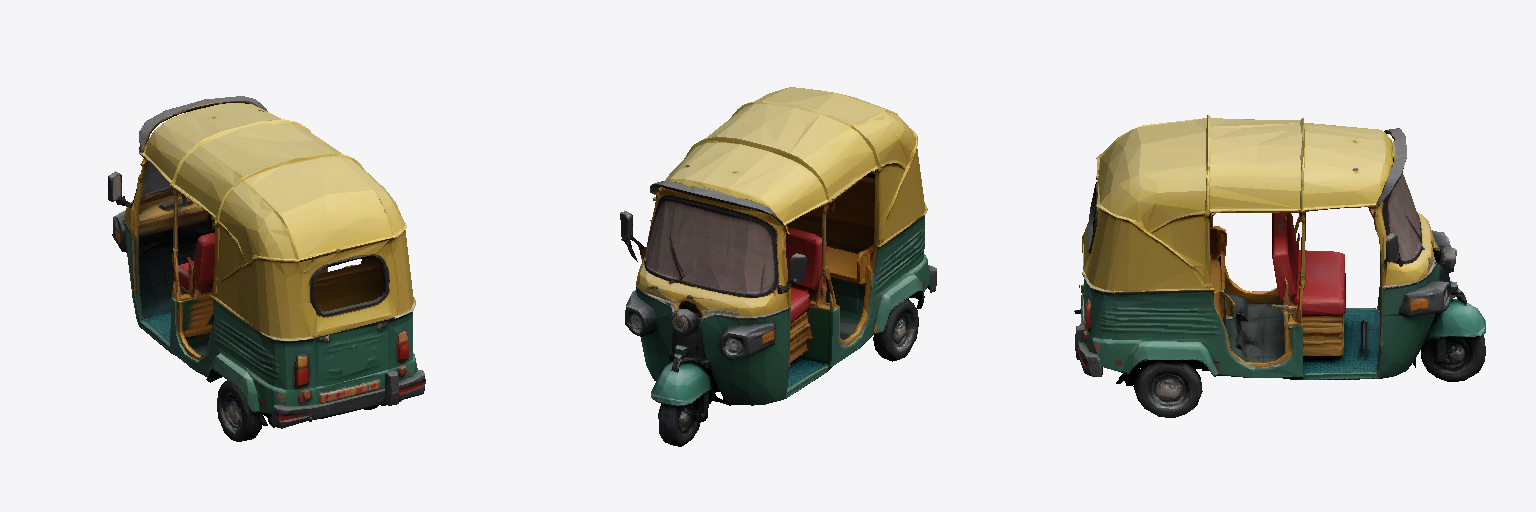
The picture shows the model from 3 angles: view 1: azimuth 30°, elevation 25°; view 2: azimuth 150°, elevation 25°; view 3: azimuth 270°, elevation 25°; orthographic projection.
Parts seen in each view (by area): view 1: obj1; view 2: obj1; view 3: obj1.
Boxes of the visible parts, x1=… form: obj1: x1=108, y1=96, x2=425, y2=441; obj1: x1=620, y1=87, x2=936, y2=446; obj1: x1=1074, y1=115, x2=1485, y2=417.
Bounding box in the file's own units: 1.28 × 1.63 × 2.47.
Materials: 1 (1 with a texture image).